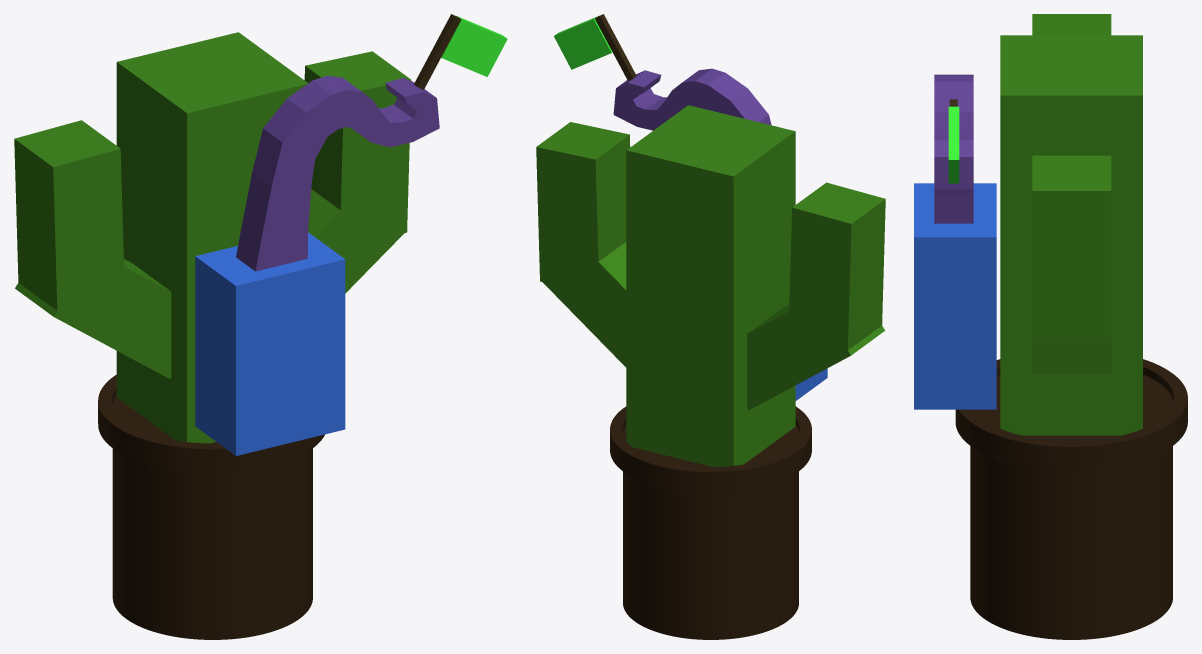
File: Character_flag_green.fbx
3 renders of one model, left to right at view 1: azimuth 30°, elevation 25°; view 2: azimuth 150°, elevation 25°; view 3: azimuth 270°, elevation 25°, orthographic. The views are drawn at different scales.
Parts seen in each view (by area): view 1: Cactus_Flag_blue.002, Mochila_Cactus_Flag_blue.002, Tentaculo_Cactus_Flag_blue.002, Flag_blue.002, Stick_wood_Flag_blue.002; view 2: Cactus_Flag_blue.002, Tentaculo_Cactus_Flag_blue.002, Flag_blue.002, Stick_wood_Flag_blue.002; view 3: Cactus_Flag_blue.002, Mochila_Cactus_Flag_blue.002, Tentaculo_Cactus_Flag_blue.002, Flag_blue.002.
Boxes of the visible parts, bbox=[...] form: Cactus_Flag_blue.002: bbox=[14, 32, 411, 639]; Mochila_Cactus_Flag_blue.002: bbox=[195, 232, 345, 455]; Tentaculo_Cactus_Flag_blue.002: bbox=[236, 75, 439, 271]; Flag_blue.002: bbox=[441, 16, 507, 76]; Stick_wood_Flag_blue.002: bbox=[414, 14, 461, 89]; Cactus_Flag_blue.002: bbox=[536, 105, 885, 639]; Tentaculo_Cactus_Flag_blue.002: bbox=[613, 68, 771, 130]; Flag_blue.002: bbox=[554, 16, 612, 69]; Stick_wood_Flag_blue.002: bbox=[595, 14, 636, 80]; Cactus_Flag_blue.002: bbox=[955, 14, 1187, 639]; Mochila_Cactus_Flag_blue.002: bbox=[914, 183, 996, 409]; Tentaculo_Cactus_Flag_blue.002: bbox=[934, 74, 973, 223]; Flag_blue.002: bbox=[948, 106, 959, 183].
Bounding box in the file's own units: 334 × 448 × 189.
